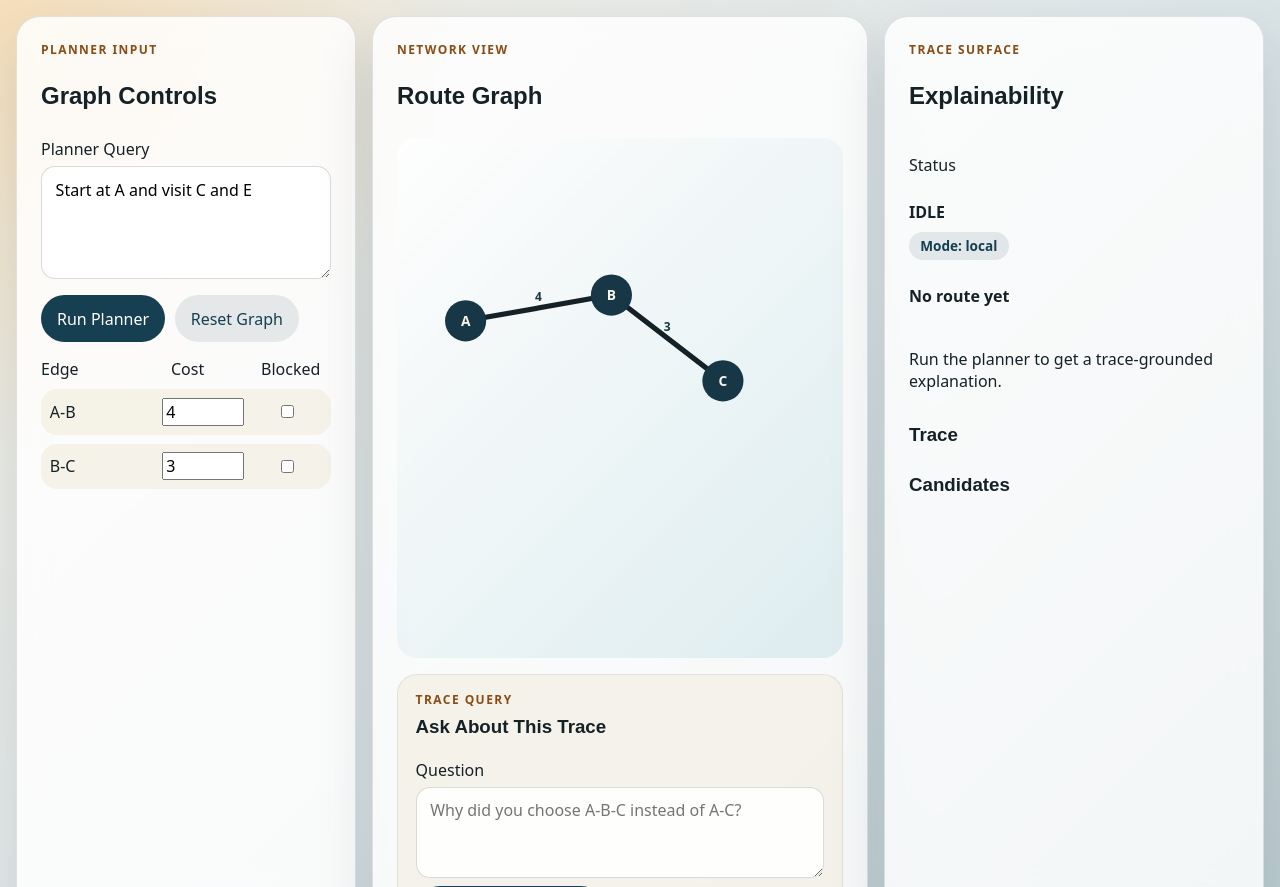
App › clears the latest route, trace, and highlights when the graph is reset
This screenshot has width=1280, height=887.
What coordinates should you click on to do the following:
click the button with test id "run-planner"
I would click on:
 (103, 319)
Its box is [41, 295, 165, 342].
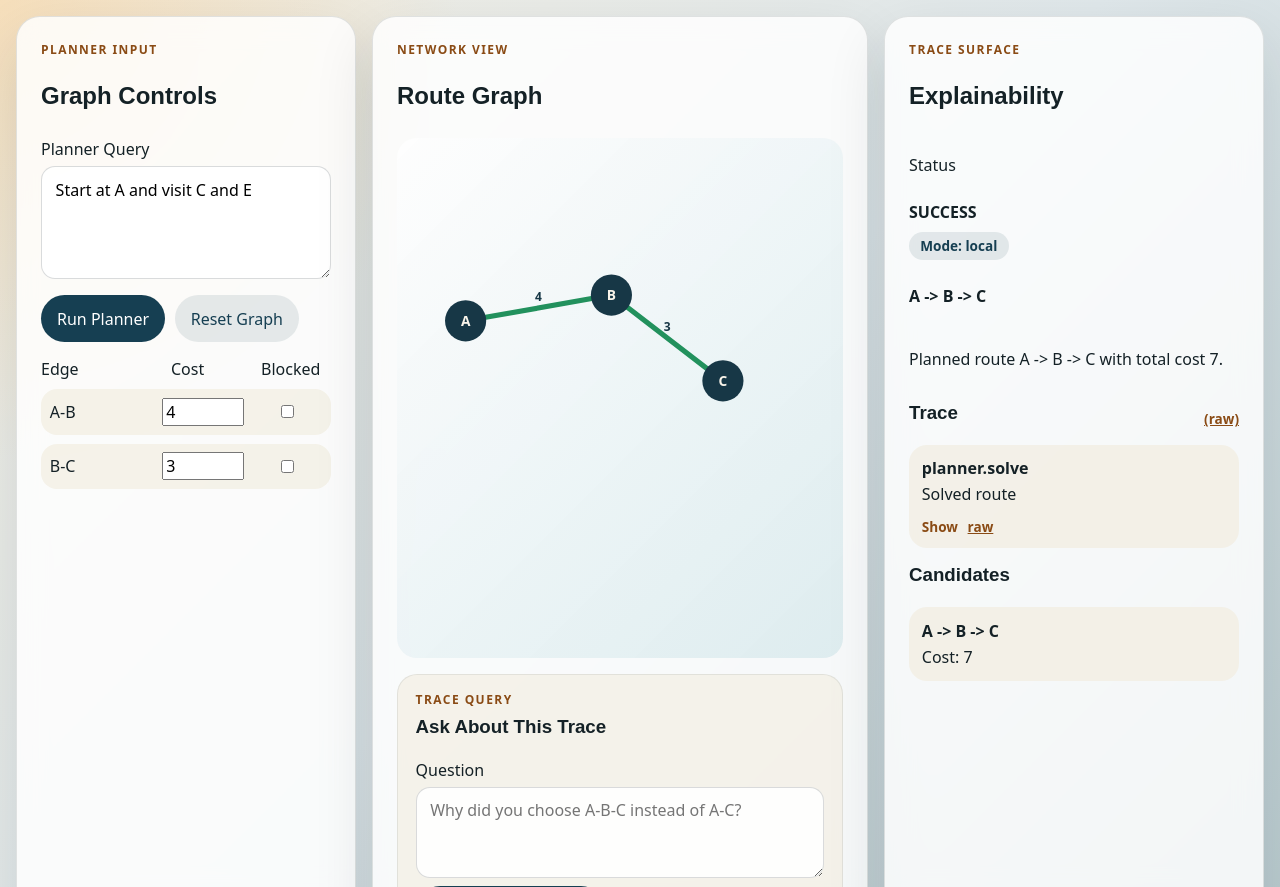
Check: the text with test id "summary-route" reads "A -> B -> C", box [909, 285, 986, 307]
Check: the button with test id "trace-step-0" shows "planner.solve", box [909, 445, 1239, 548]
Check: the element with test id "candidate-0" shows "A -> B -> C", box [922, 620, 999, 642]
What coordinates should you click on to do the following:
click the button "Reset Graph"
I would click on:
 (237, 319)
Its box is [175, 295, 299, 342].
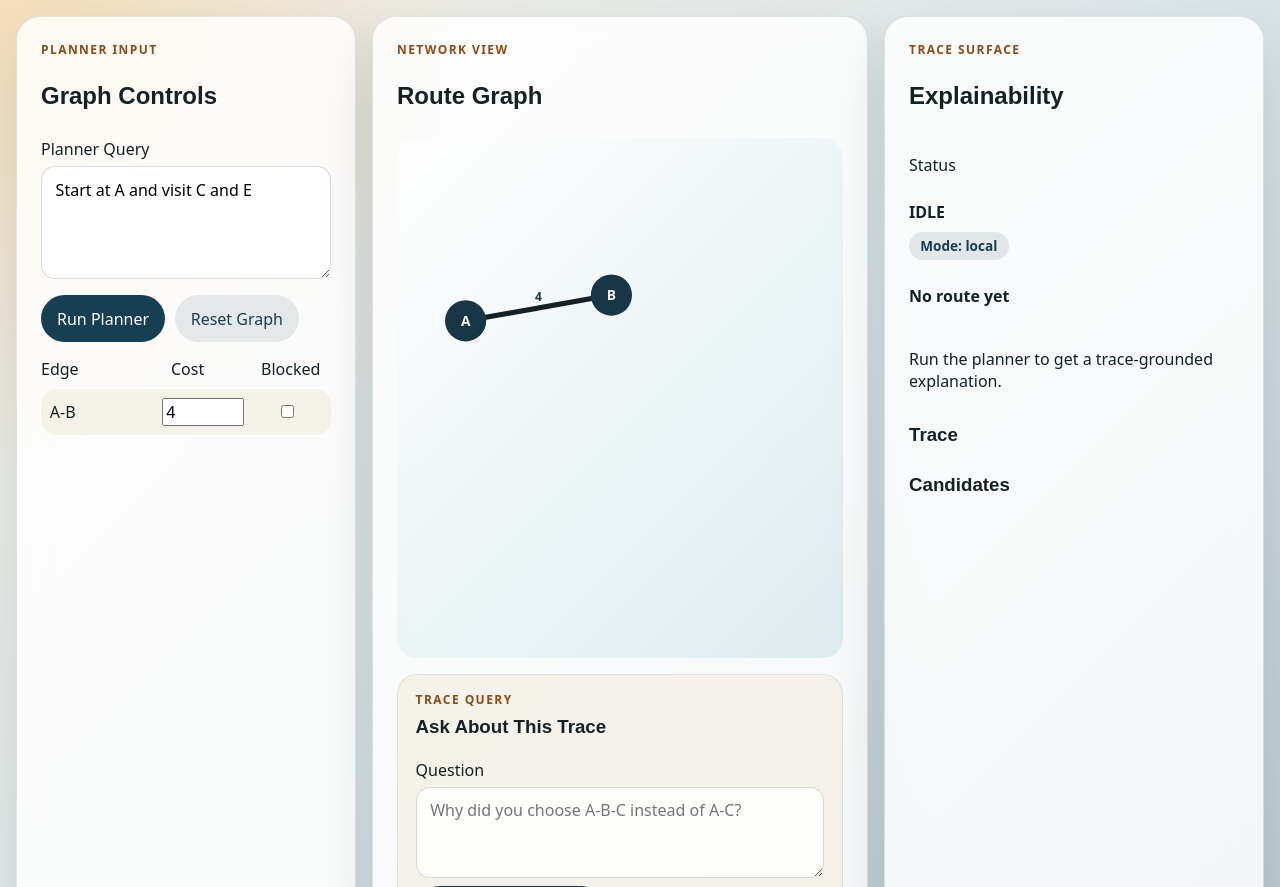
Check: the text with test id "summary-route" reads "No route yet", box [909, 285, 1010, 307]
Check: the text "Run the planner to get a trace-grounded explanation." is shown, box [909, 348, 1239, 392]
